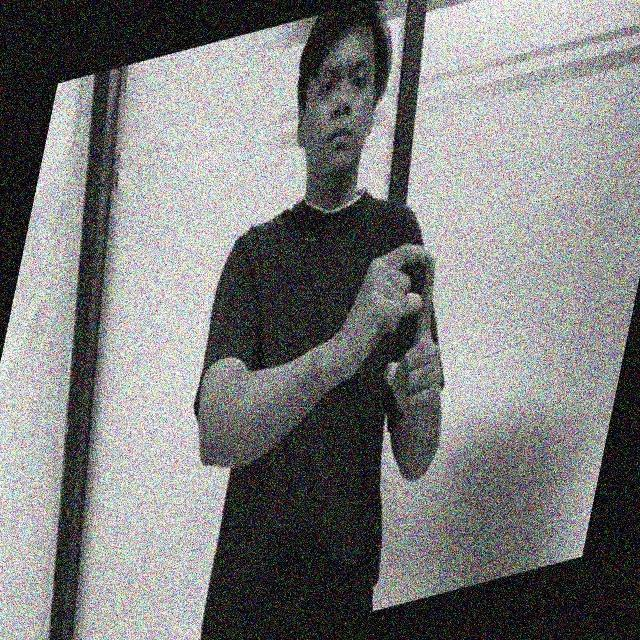P: (360, 230, 444, 398)
